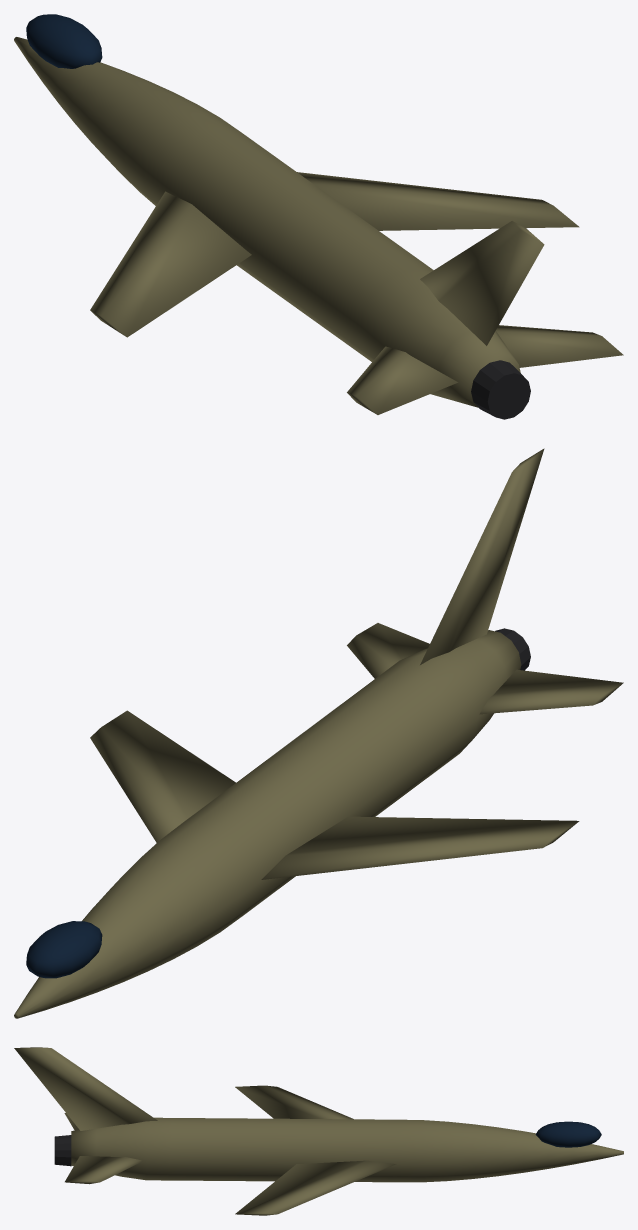
The picture shows the model from 3 angles, top to bottom: view 1: azimuth 30°, elevation 25°; view 2: azimuth 150°, elevation 25°; view 3: azimuth 270°, elevation 25°; orthographic projection. The views are drawn at different scales.
Parts seen in each view (by area): view 1: Body, Canopy, Detail; view 2: Body, Canopy; view 3: Body, Canopy, Detail.
Part boxes in pixels (x1=…): Body: x1=14, y1=37, x2=623, y2=414; Canopy: x1=26, y1=14, x2=102, y2=68; Detail: x1=471, y1=360, x2=530, y2=419; Body: x1=14, y1=448, x2=623, y2=1018; Canopy: x1=26, y1=921, x2=102, y2=978; Body: x1=14, y1=1047, x2=623, y2=1215; Canopy: x1=535, y1=1121, x2=601, y2=1147; Detail: x1=54, y1=1135, x2=71, y2=1166.
Size of the model in its own units: 10.7 by 5.14 by 21.63.
